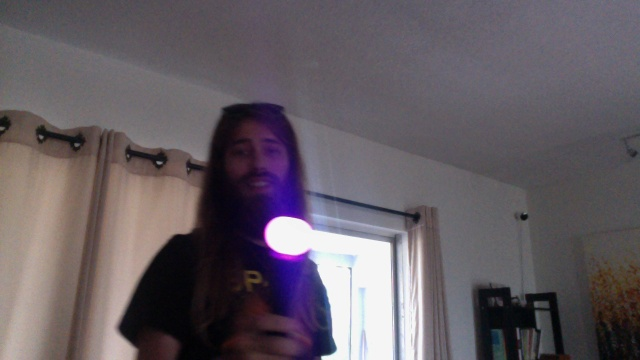wand: (266, 218, 314, 254)
